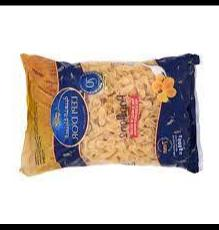Papillon: (19, 53, 198, 177)
